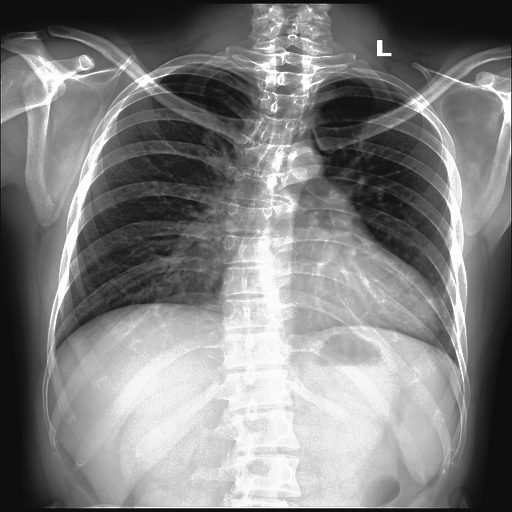Calcification: (339, 74, 388, 86), (184, 62, 218, 70)
Nodule/Mass: (212, 282, 443, 340)
Other lesion: (228, 45, 311, 256)
